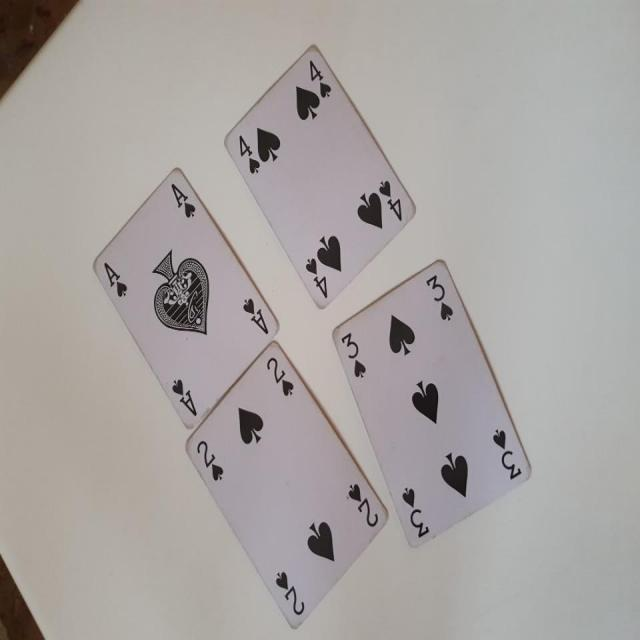2 of spades: (180, 338, 390, 630)
3 of spades: (330, 260, 536, 552)
4 of spades: (216, 37, 419, 313)
ace of spades: (87, 162, 279, 426)
